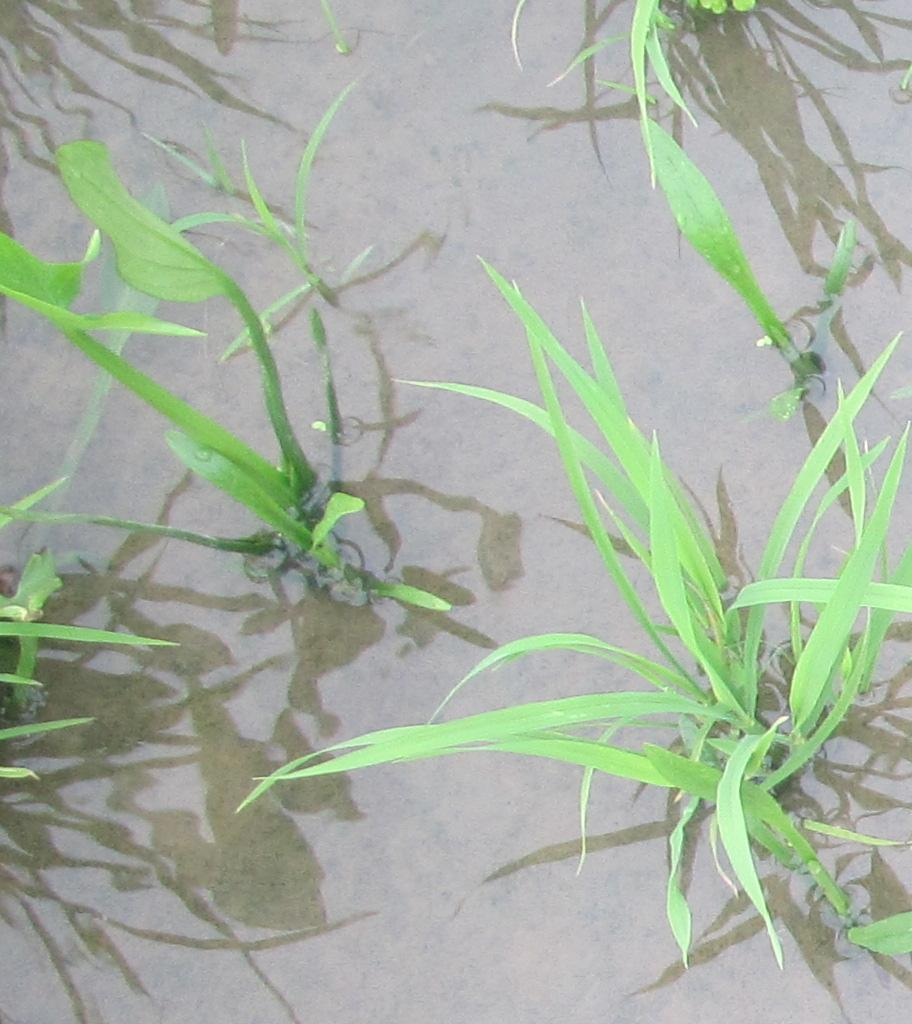Weed: (14, 138, 364, 560), (635, 111, 830, 386)
